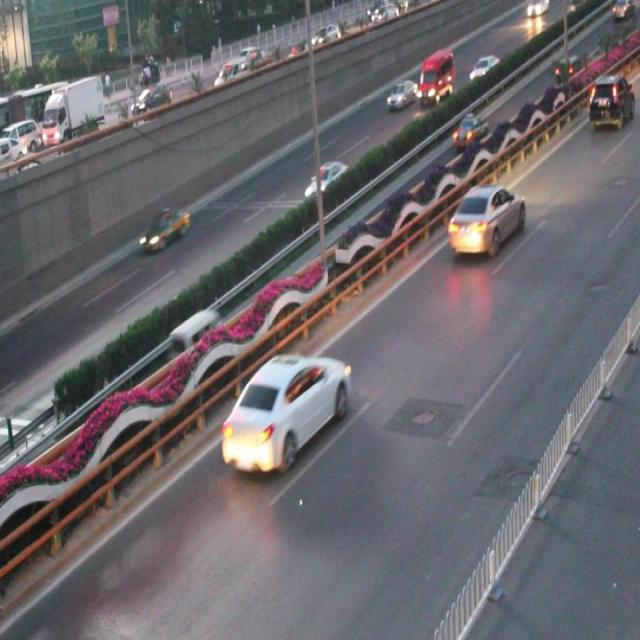car: (219, 352, 350, 468), (448, 183, 523, 257), (139, 209, 190, 250), (302, 162, 353, 197), (450, 115, 494, 153), (386, 78, 418, 109)
truck: (166, 308, 221, 360), (414, 51, 454, 108)
